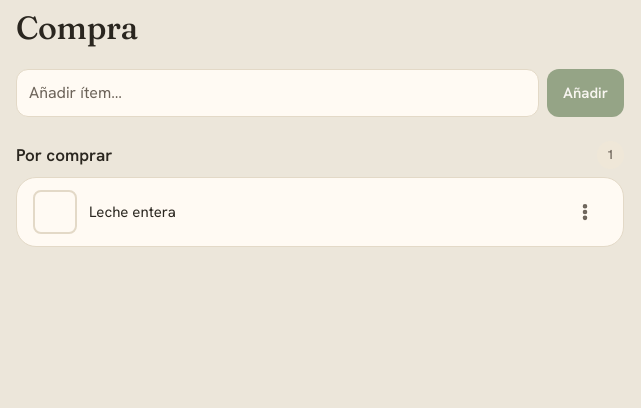
CompraPage — menú de acciones de tres puntos › abre el desplegable y dispara Borrar desde el menú
Expected: the text "Leche entera" is shown, x1=89 y1=202 x2=176 y2=222
Step 1. Click the button named "Menú de acciones de Leche entera" → (585, 212), box x1=563 y1=190 x2=607 y2=234
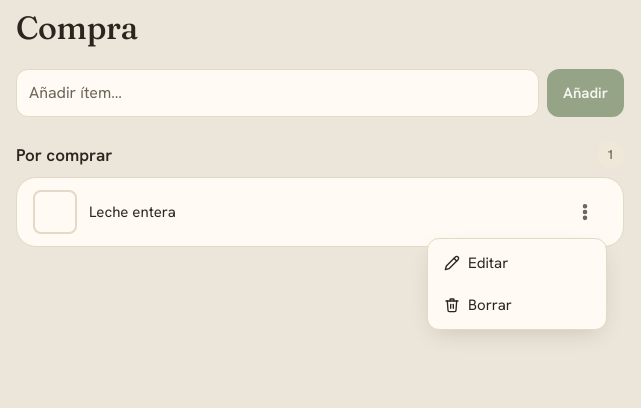
Step 2. Click the menu item with aria-label "Borrar Leche entera" → (517, 305), box x1=432 y1=285 x2=602 y2=325
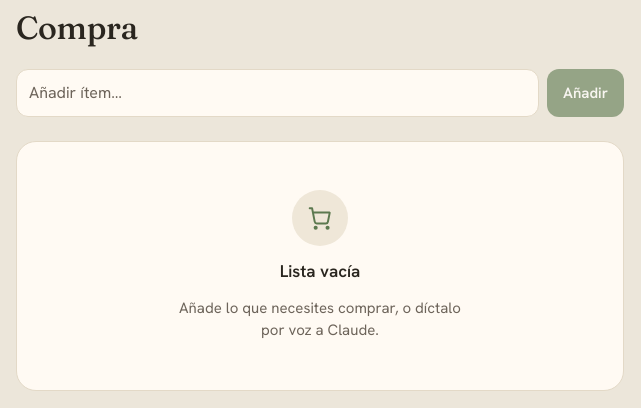
Expected: the button "Leche entera" is gone
